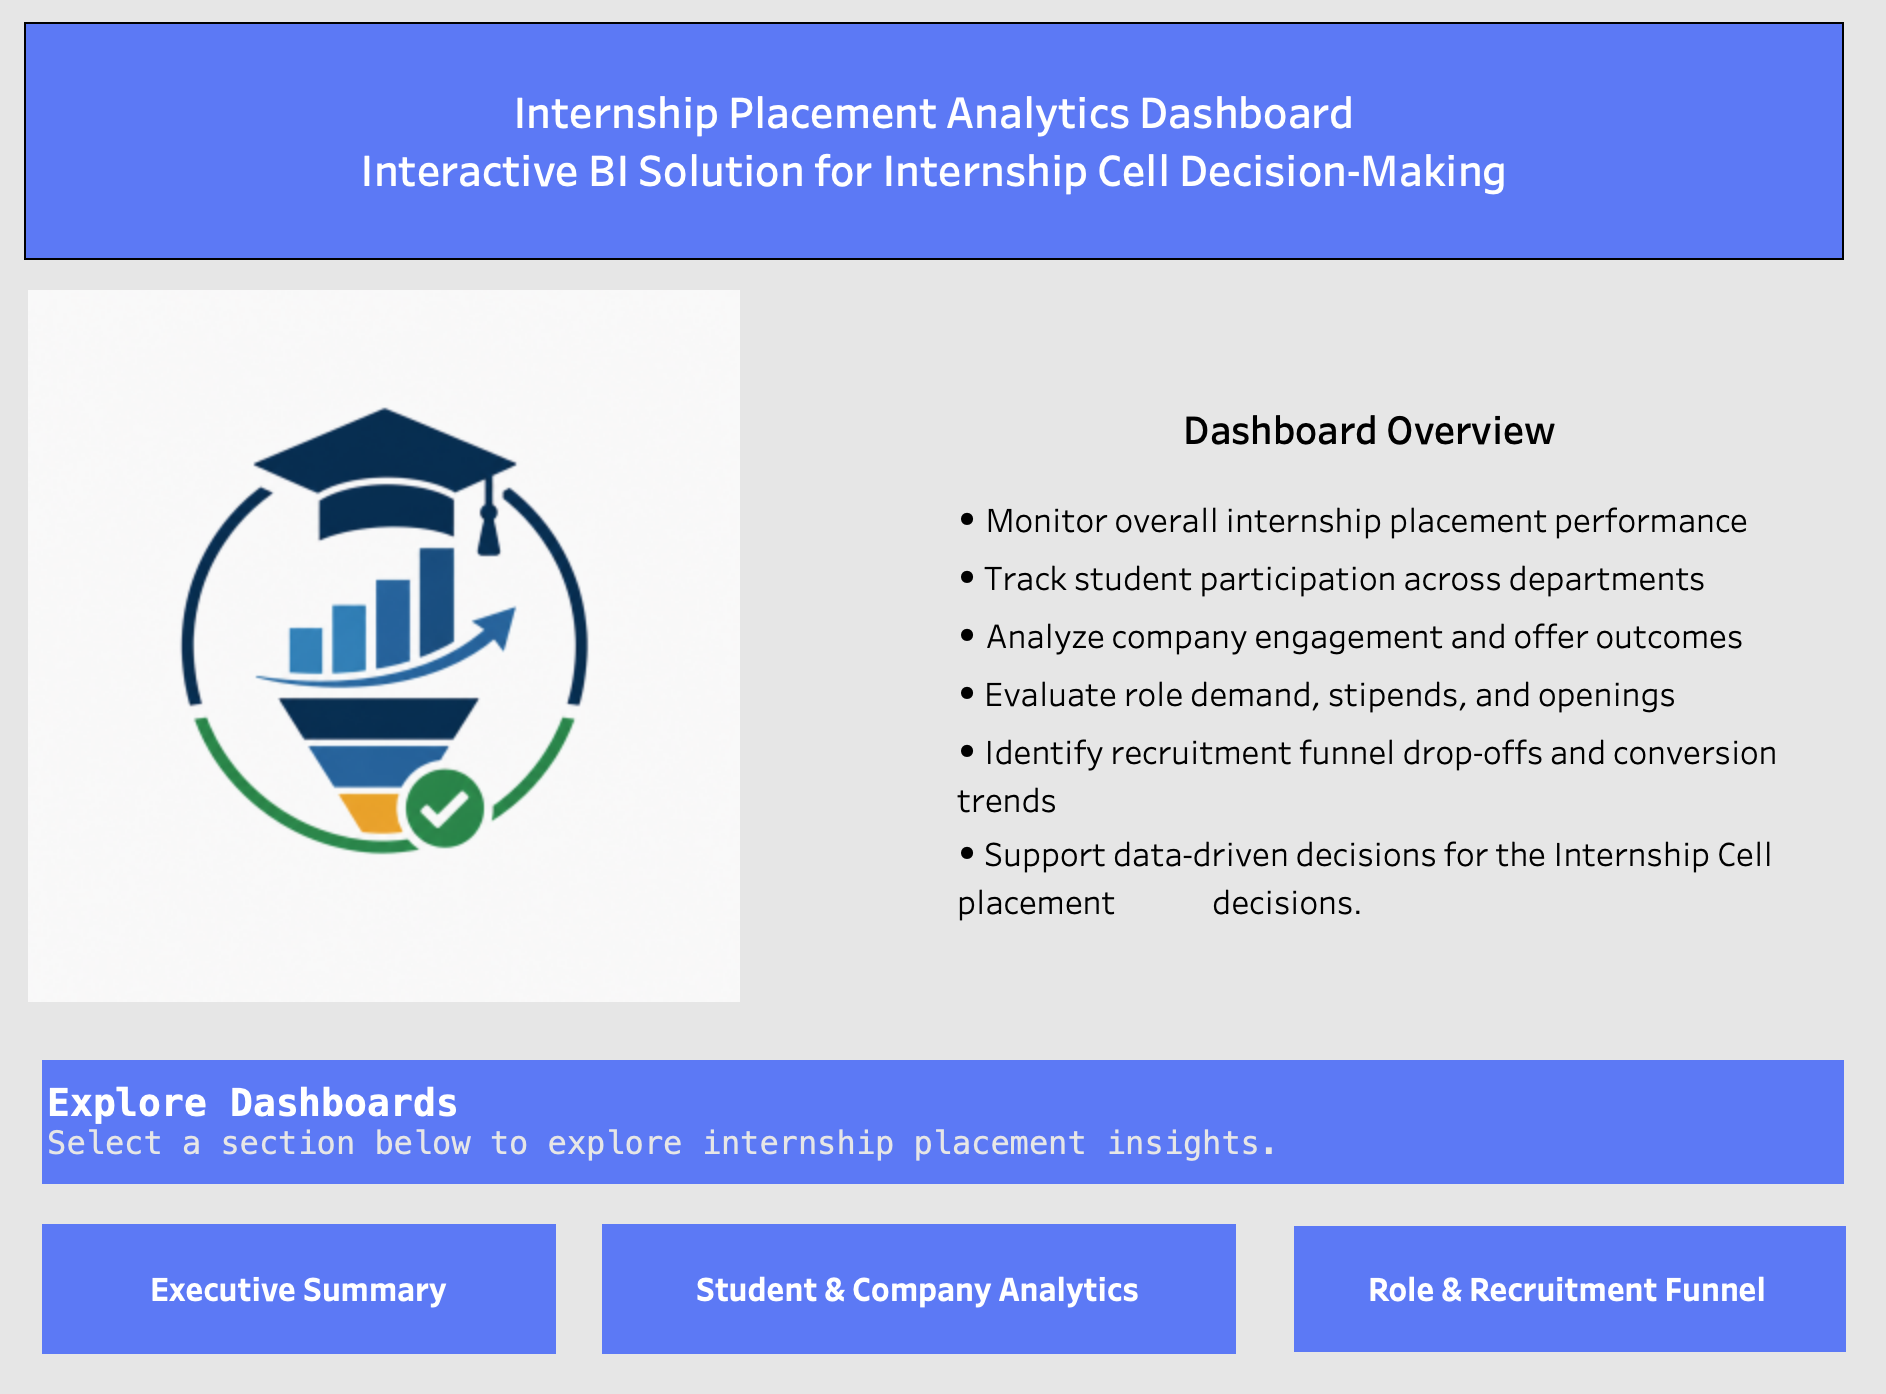

What the dashboard file says about the page in this screenshot:
{"tool":"tableau","page":{"name":"Dashboard home","canvas":[1024,768],"ordinal":3},"visuals":[{"type":"text","box":[69.6,42.2,885.8,119]},{"type":"image","param":"Image/Generated image 1.png","box":[71.7,175.7,453.6,356.2]},{"type":"text","box":[533.5,215,417.8,296.6]},{"type":"text","box":[78.8,560.6,901.1,62.4]},{"type":"dashboard-object","box":[78.8,643.2,257,65.3]},{"type":"dashboard-object","box":[359.4,643.2,317.4,65.3]},{"type":"dashboard-object","box":[704.5,644.2,276.5,63.4]}]}

Visuals, with their boxes in screenshot pixels (x1, y1, x2, y2), scaled from the page's 1024x768 canvas onto the 1886x1394 screenshot:
text: <region>128, 77, 1760, 293</region>
image: <region>132, 319, 967, 965</region>
text: <region>983, 390, 1752, 929</region>
text: <region>145, 1018, 1805, 1131</region>
dashboard-object: <region>145, 1167, 618, 1286</region>
dashboard-object: <region>662, 1167, 1247, 1286</region>
dashboard-object: <region>1298, 1169, 1807, 1284</region>
